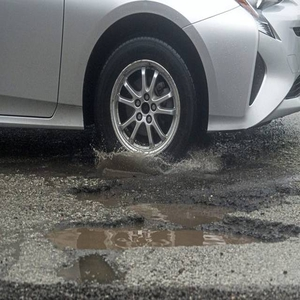pothole: (42, 181, 300, 253)
